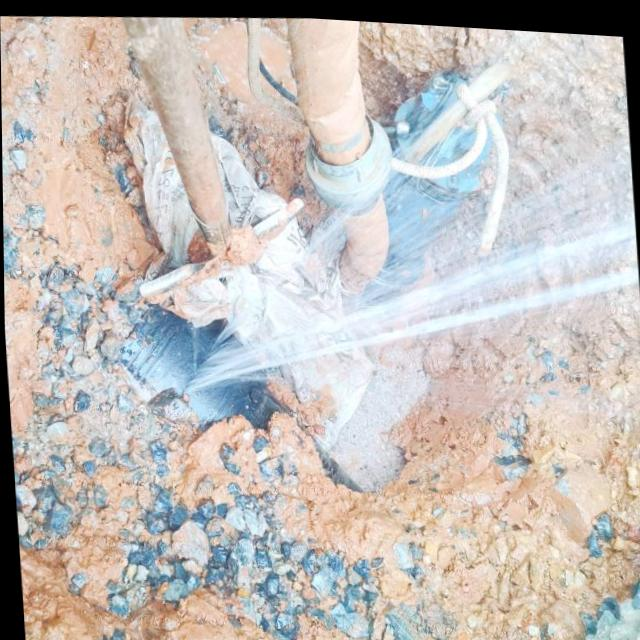leak: (189, 216, 374, 443), (213, 137, 291, 236), (141, 115, 166, 205)
